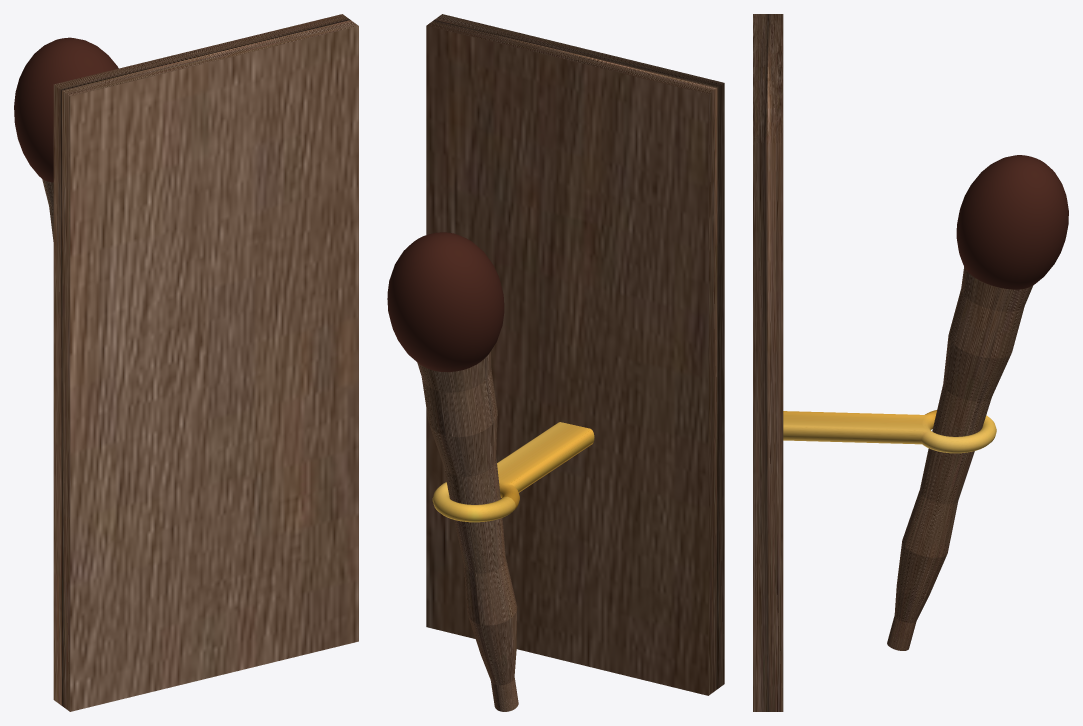
Rendered from Obor 99.glb.
3 views of the same model, side by side, from view 1: azimuth 30°, elevation 25°; view 2: azimuth 150°, elevation 25°; view 3: azimuth 270°, elevation 25° (orthographic). The views are drawn at different scales.
Parts seen in each view (by area): view 1: Cube, Sphere.001; view 2: Cube, Cylinder, Sphere.001, Torus; view 3: Cube, Cylinder, Sphere.001, Torus.
Boxes of the visible parts, <box> form: Cube: <box>53,14,358,711</box>; Sphere.001: <box>14,37,118,182</box>; Cube: <box>426,14,724,695</box>; Cylinder: <box>417,351,518,711</box>; Sphere.001: <box>387,232,504,372</box>; Torus: <box>432,422,594,522</box>; Cube: <box>753,14,783,711</box>; Cylinder: <box>887,266,1033,650</box>; Sphere.001: <box>956,155,1068,289</box>; Torus: <box>783,410,996,453</box>.
Bounding box in the file's own units: 9.3 × 18.99 × 9.55.
4 materials, 3 textured.
